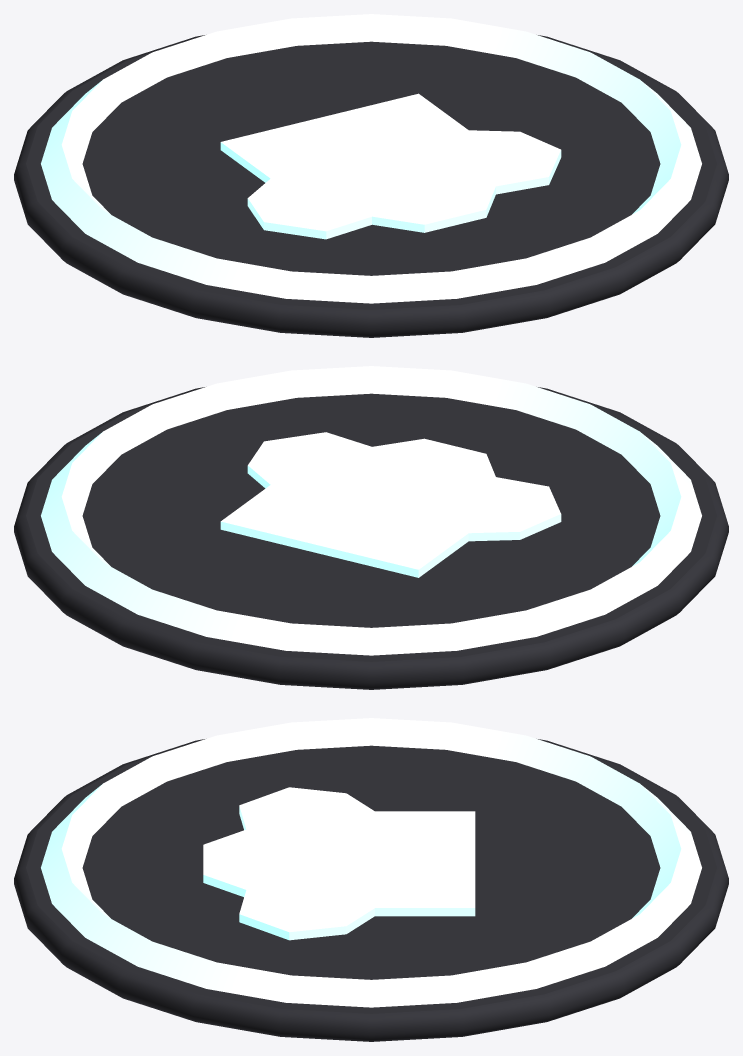
File: kr_joinpad.glb
The picture shows the model from 3 angles, top to bottom: view 1: azimuth 30°, elevation 25°; view 2: azimuth 150°, elevation 25°; view 3: azimuth 270°, elevation 25°; orthographic projection.
Visible parts, largest first — view 1: vc_m0_r4, kr_joinpad_neonblue; view 2: vc_m0_r4, kr_joinpad_neonblue; view 3: vc_m0_r4, kr_joinpad_neonblue.
Boxes of the visible parts, bbox=[...] form: vc_m0_r4: bbox=[14, 35, 728, 337]; kr_joinpad_neonblue: bbox=[41, 14, 701, 303]; vc_m0_r4: bbox=[14, 387, 728, 689]; kr_joinpad_neonblue: bbox=[41, 366, 701, 655]; vc_m0_r4: bbox=[14, 739, 728, 1041]; kr_joinpad_neonblue: bbox=[41, 718, 701, 1007].
Bounding box in the file's own units: 1.2 × 0.085 × 1.2.
